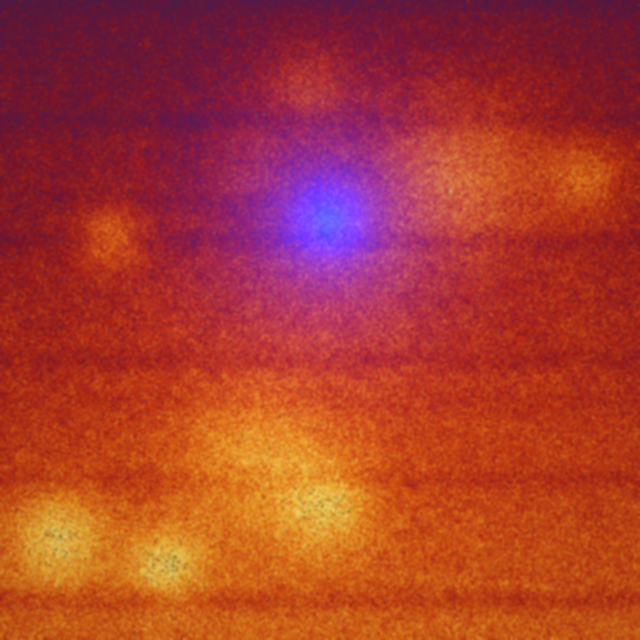nozzle: (283, 180, 374, 266)
